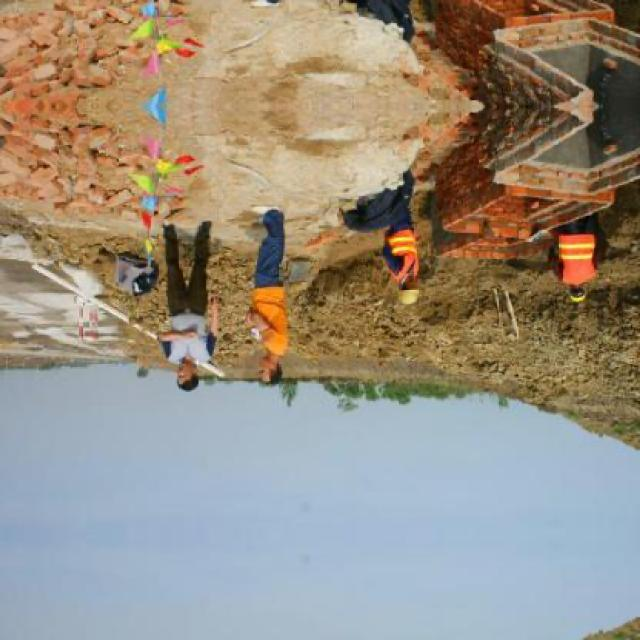con casco: (390, 267, 426, 317)
sin casco: (166, 333, 212, 402), (259, 336, 287, 398)
